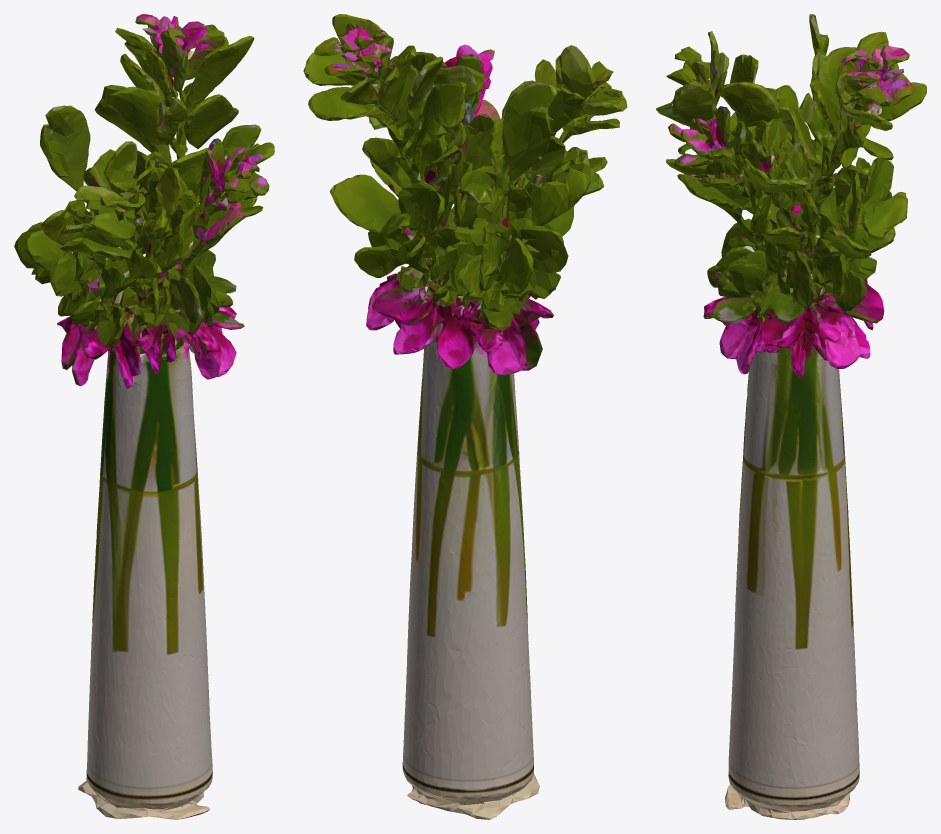
File: hunyuan3d_textured.obj
3 renders of one model, left to right at view 1: azimuth 30°, elevation 25°; view 2: azimuth 150°, elevation 25°; view 3: azimuth 270°, elevation 25°, orthographic. The views are drawn at different scales.
Parts seen in each view (by area): view 1: hunyuan3d_textured; view 2: hunyuan3d_textured; view 3: hunyuan3d_textured.
Boxes of the visible parts, x1,y1,x2,y2 form: hunyuan3d_textured: (14,14,274,819); hunyuan3d_textured: (303,14,627,819); hunyuan3d_textured: (656,14,926,819).
Size of the model in its own units: 0.6469 by 1.99 by 0.6323.
Materials: 1 (1 with a texture image).
